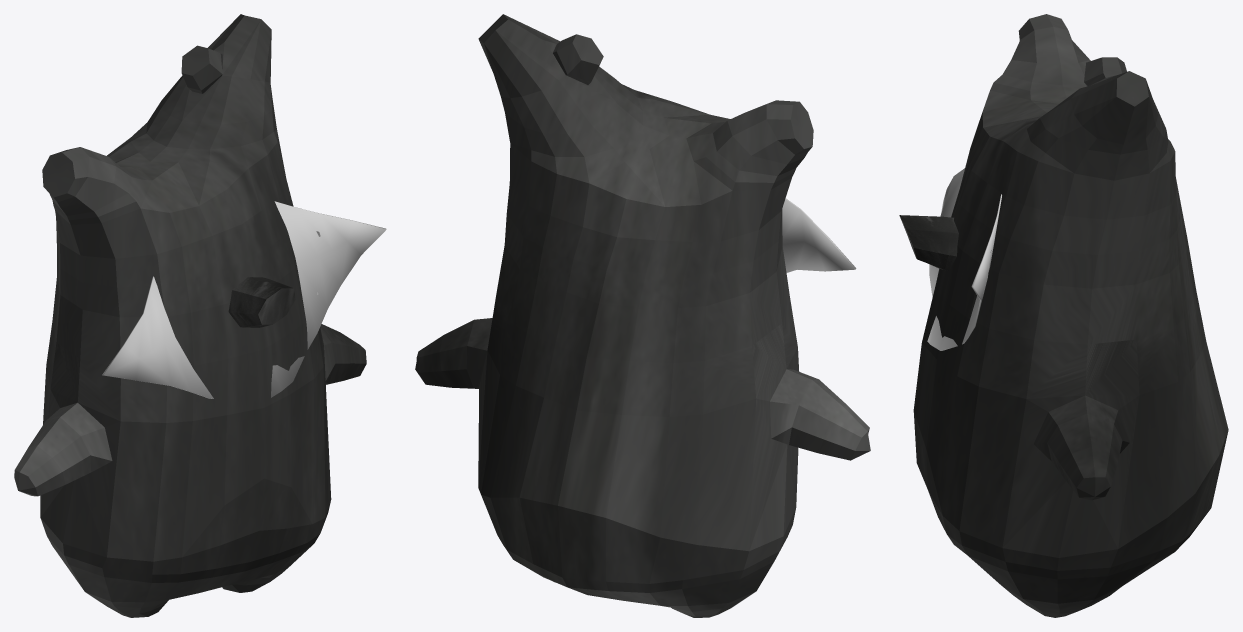
File: frame_0056.obj
3 views of the same model, side by side, from view 1: azimuth 30°, elevation 25°; view 2: azimuth 150°, elevation 25°; view 3: azimuth 270°, elevation 25° (orthographic). The views are drawn at different scales.
Visible parts, largest first — view 1: korok, leaf, nose; view 2: korok, leaf; view 3: korok, nose, leaf.
Part boxes in pixels (x1,y1,x2,y2): korok: (14,14,366,617); leaf: (102,201,386,398); nose: (228,277,295,327); korok: (415,14,870,617); leaf: (782,198,856,272); korok: (913,14,1228,617); nose: (899,215,958,270); leaf: (927,168,1001,350).
Bounding box in the file's own units: 1.7 × 2.29 × 1.22.
